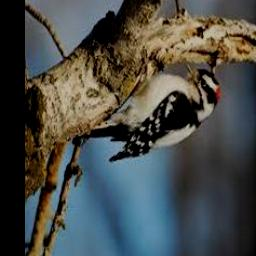Woodpecker: (81, 60, 219, 162)
